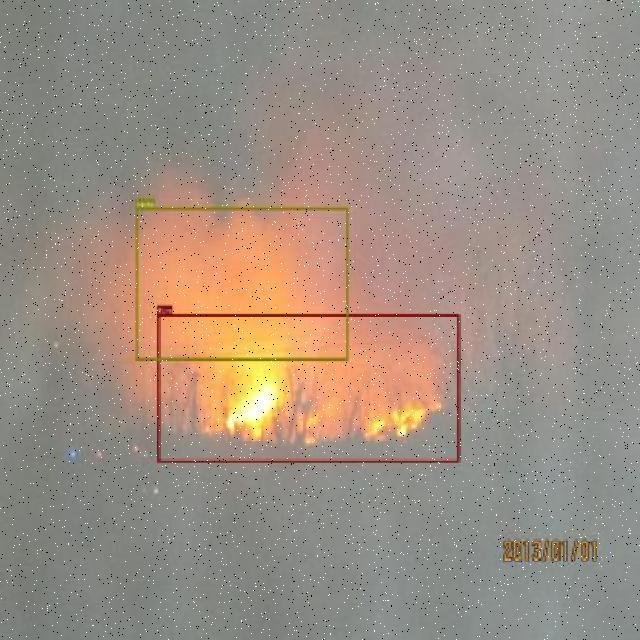Smoke: (135, 238, 348, 327)
